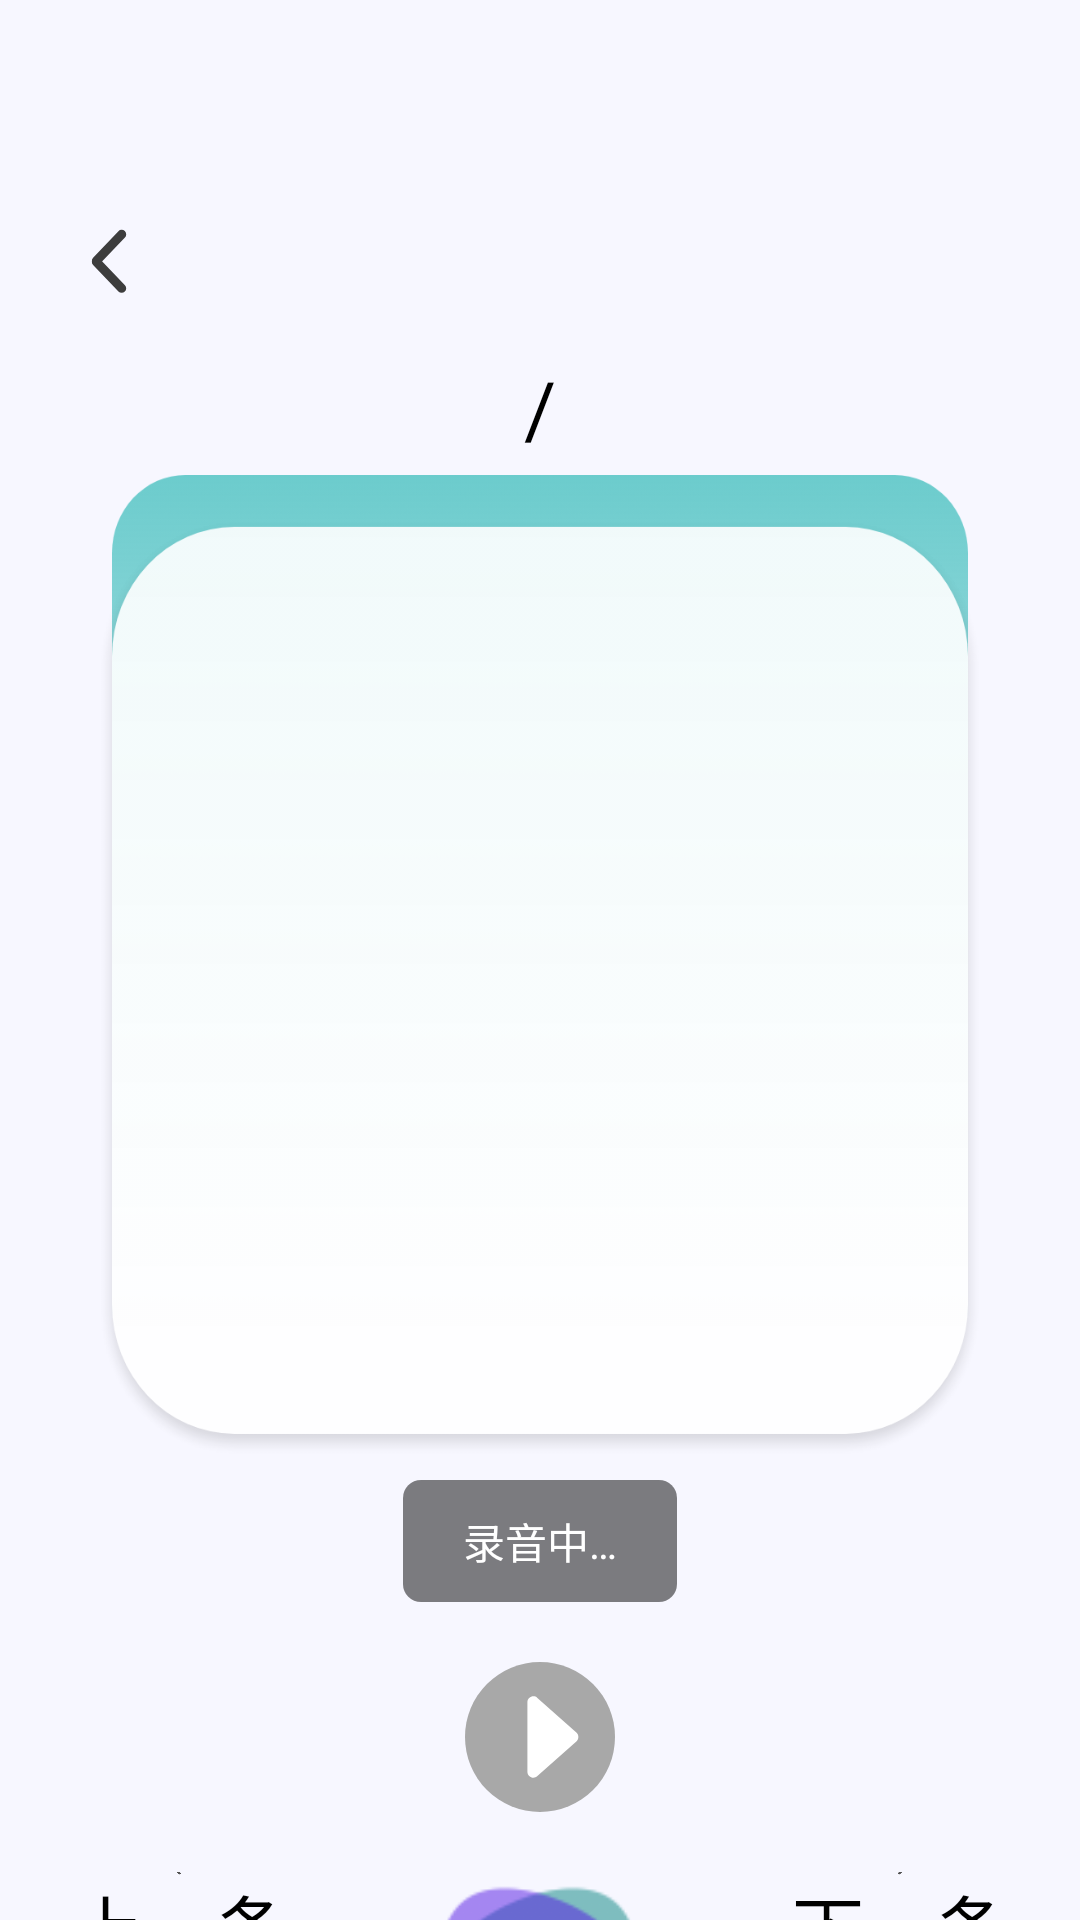

Icons on this 1080x1920 Android screen, each with its box as bbox=[x1, y1, x2, y2]:
back: bbox=[92, 229, 127, 293]
record play: bbox=[465, 1662, 615, 1812]
